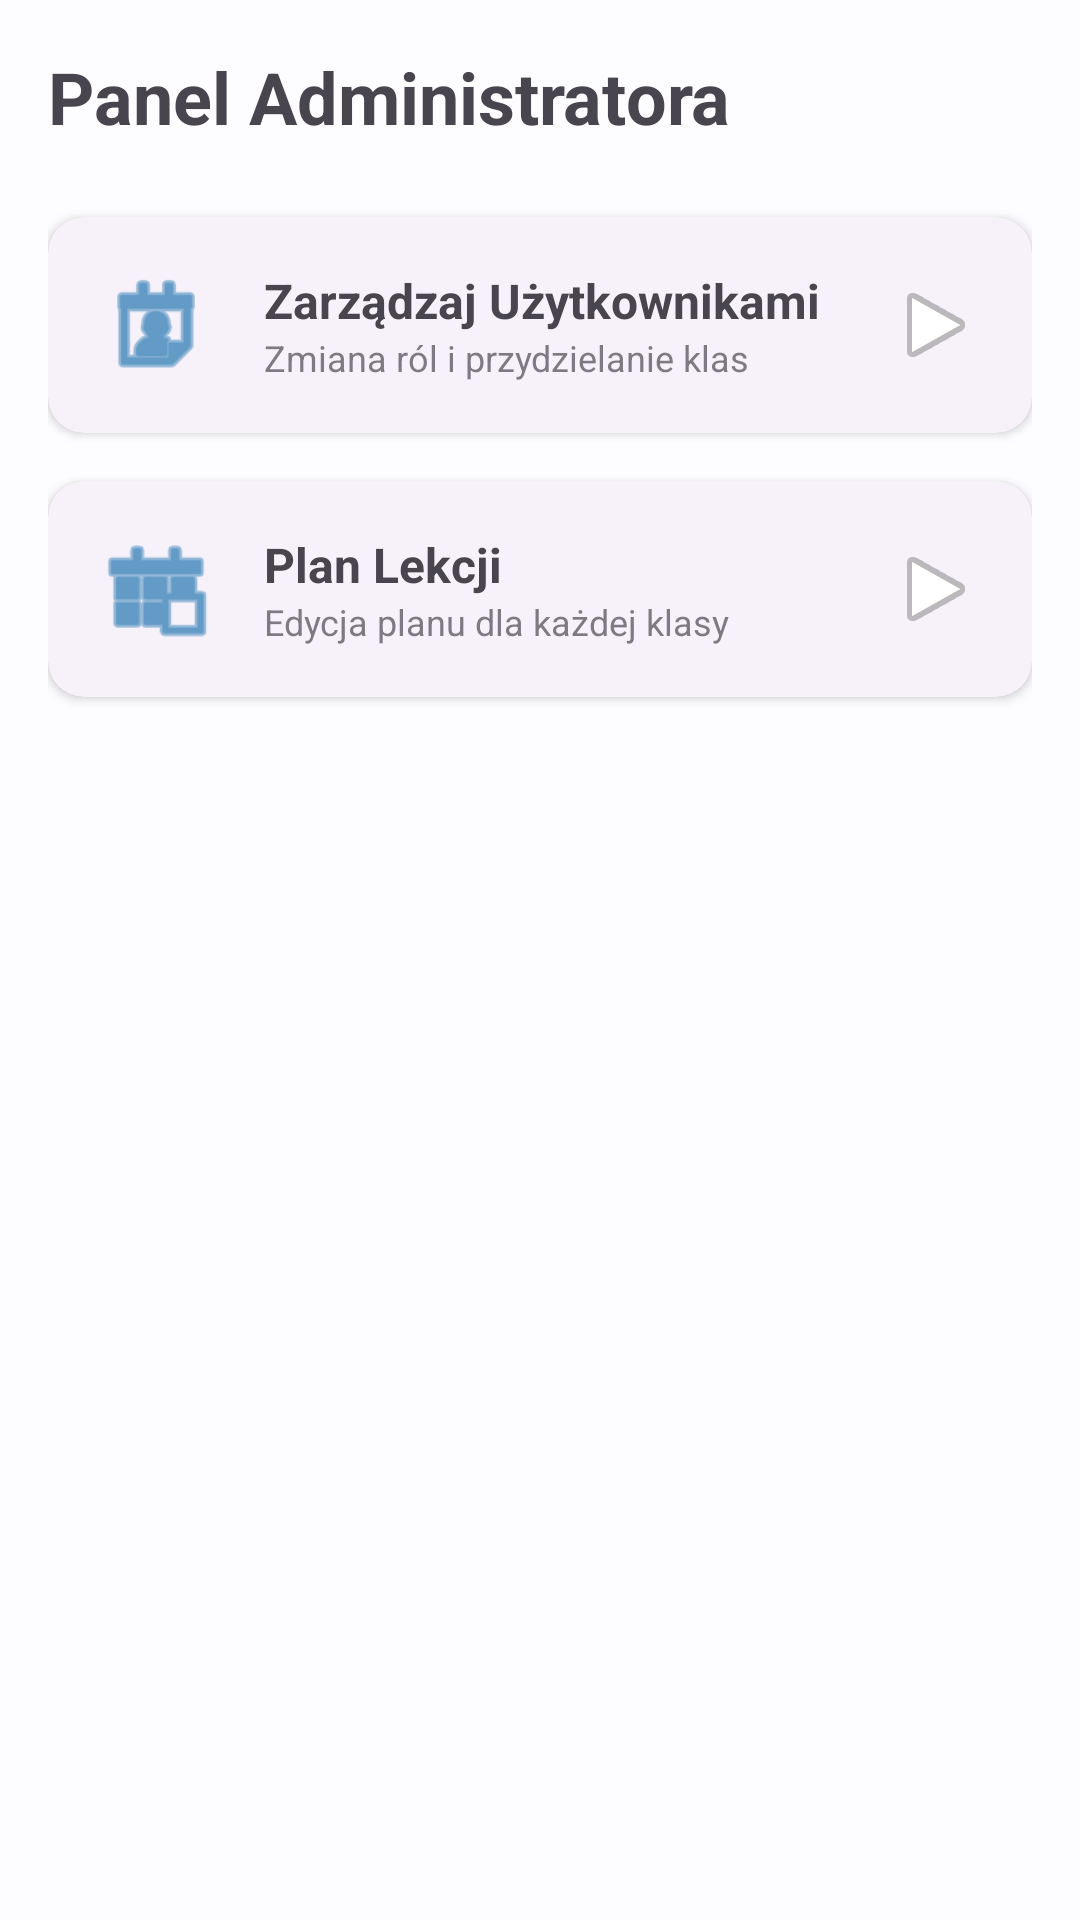

Named icons in this screenshot (1080 x 1920) and their centers, [x,y]:
play: [936,325], [936,589]
today: [157,591]
